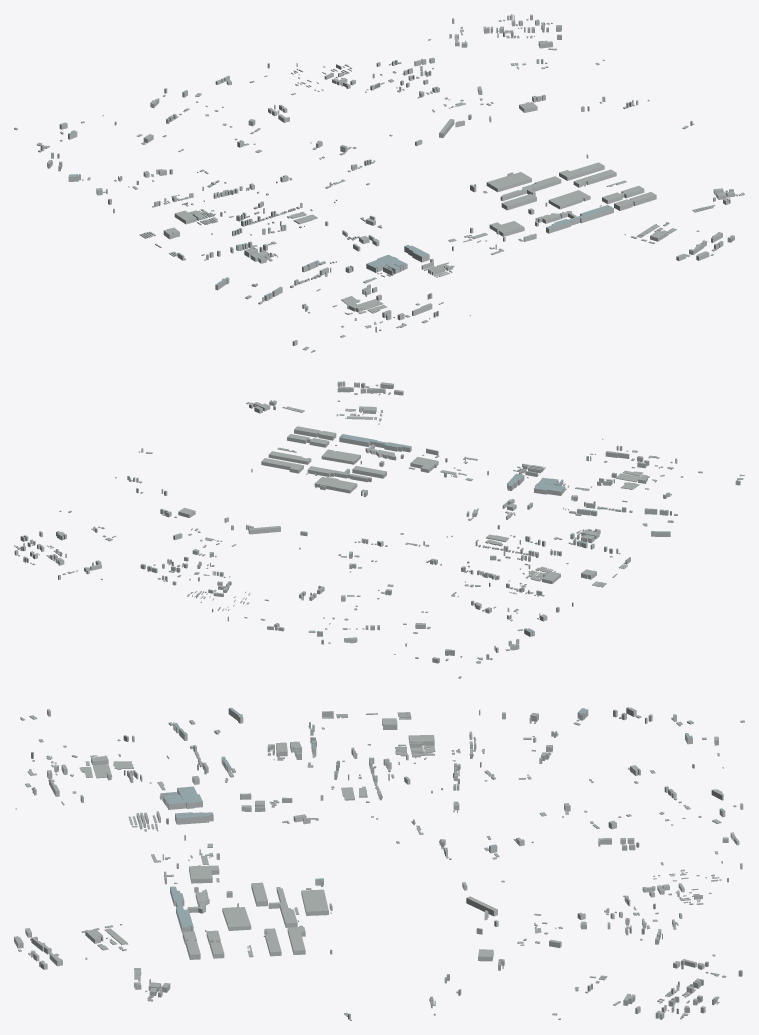
File: far.glb
The picture shows the model from 3 angles, top to bottom: view 1: azimuth 30°, elevation 25°; view 2: azimuth 150°, elevation 25°; view 3: azimuth 270°, elevation 25°; orthographic projection. The views are drawn at different scales.
Bounding box in the file's own units: 2106 × 20.85 × 2110.
